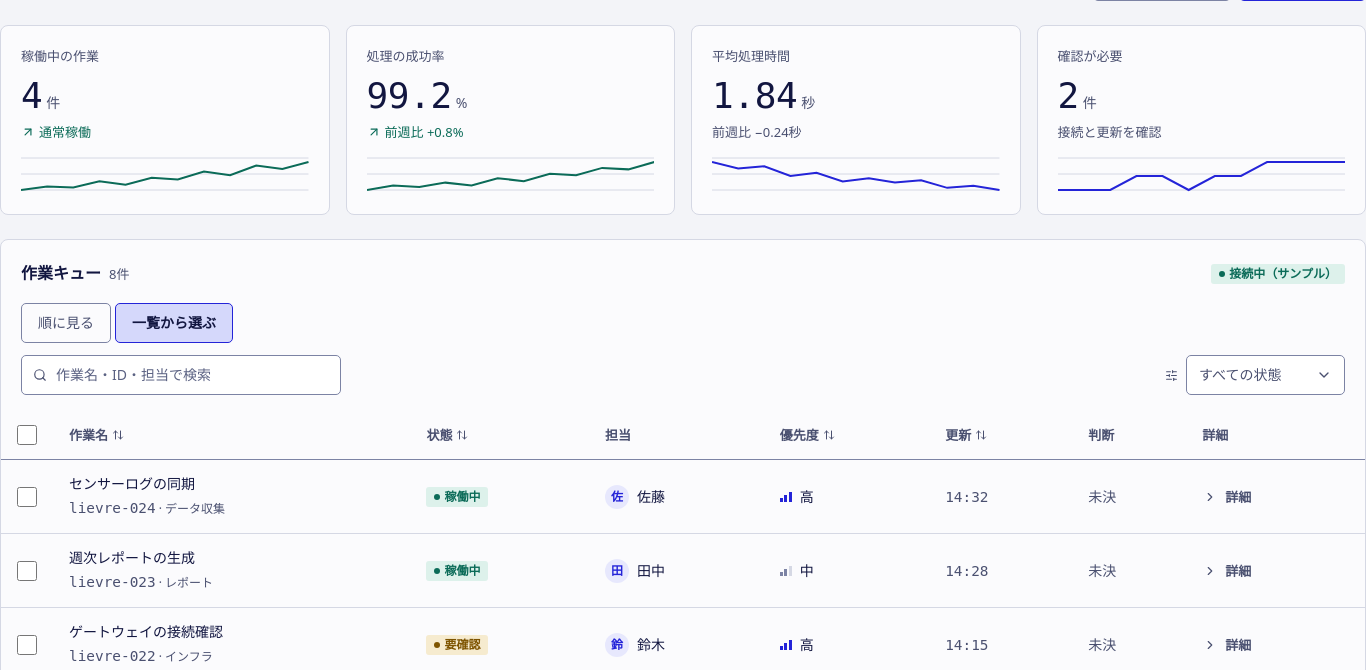
Work queue example: both views share one state › keeps the view in the URL and shares decisions with the table selection
The width and height of the screenshot is (1366, 670).
Later steps or results of the test are not shown.
Click the checkbox named "lievre-022 を選択" at [27, 645], box left=17, top=635, right=37, bottom=655
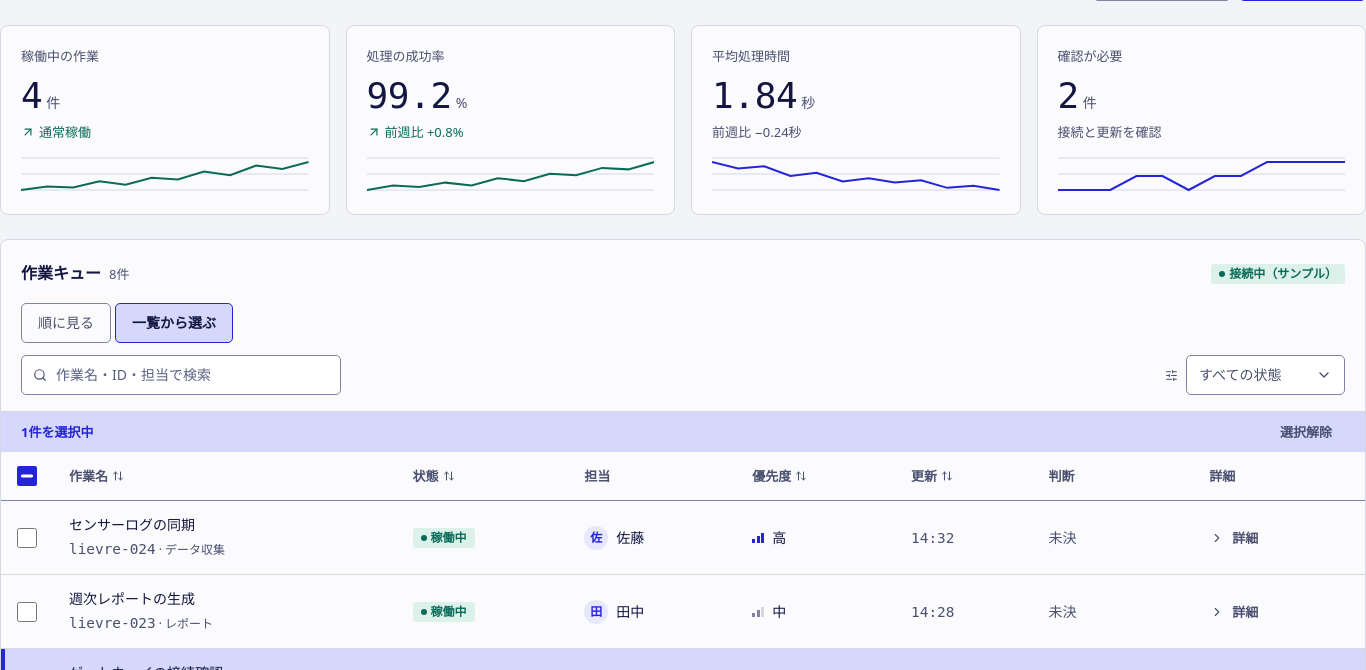
Click the radio button labelled "順に見る" at [66, 323], box left=21, top=303, right=111, bottom=343
(page scrolled)
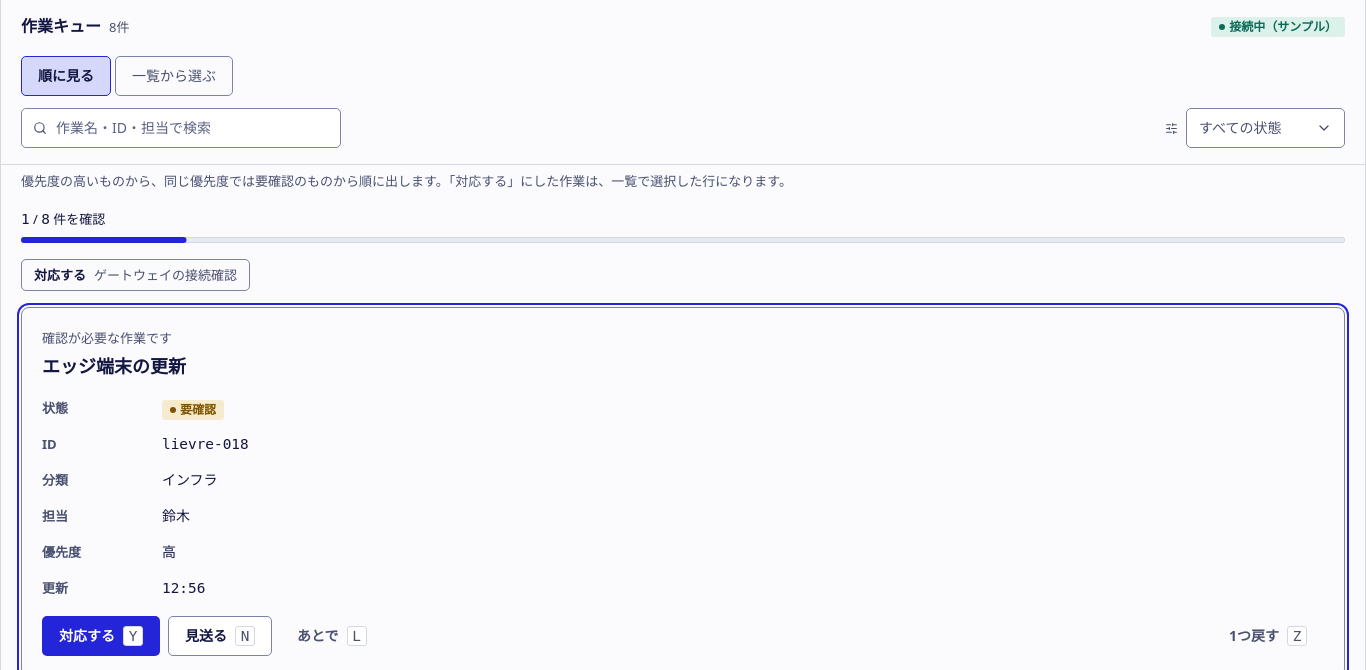
Type keys "y"
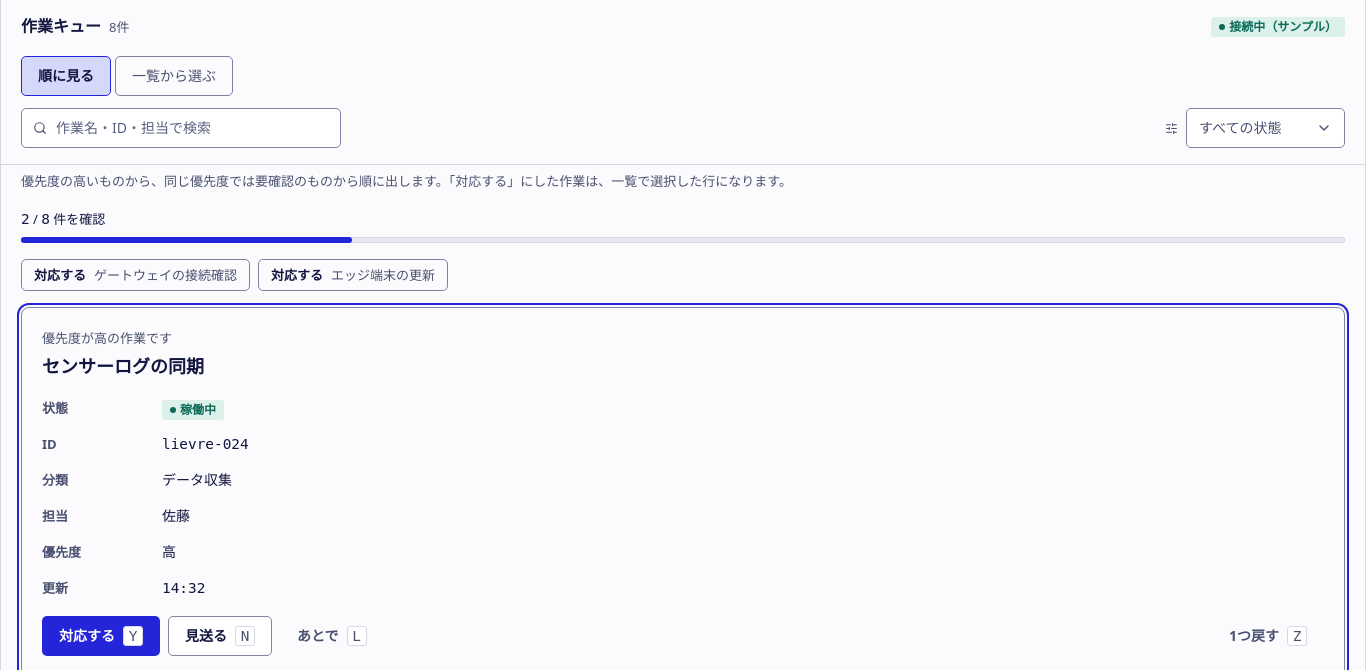
Click the radio button labelled "一覧から選ぶ" at [174, 76], box left=115, top=56, right=233, bottom=96
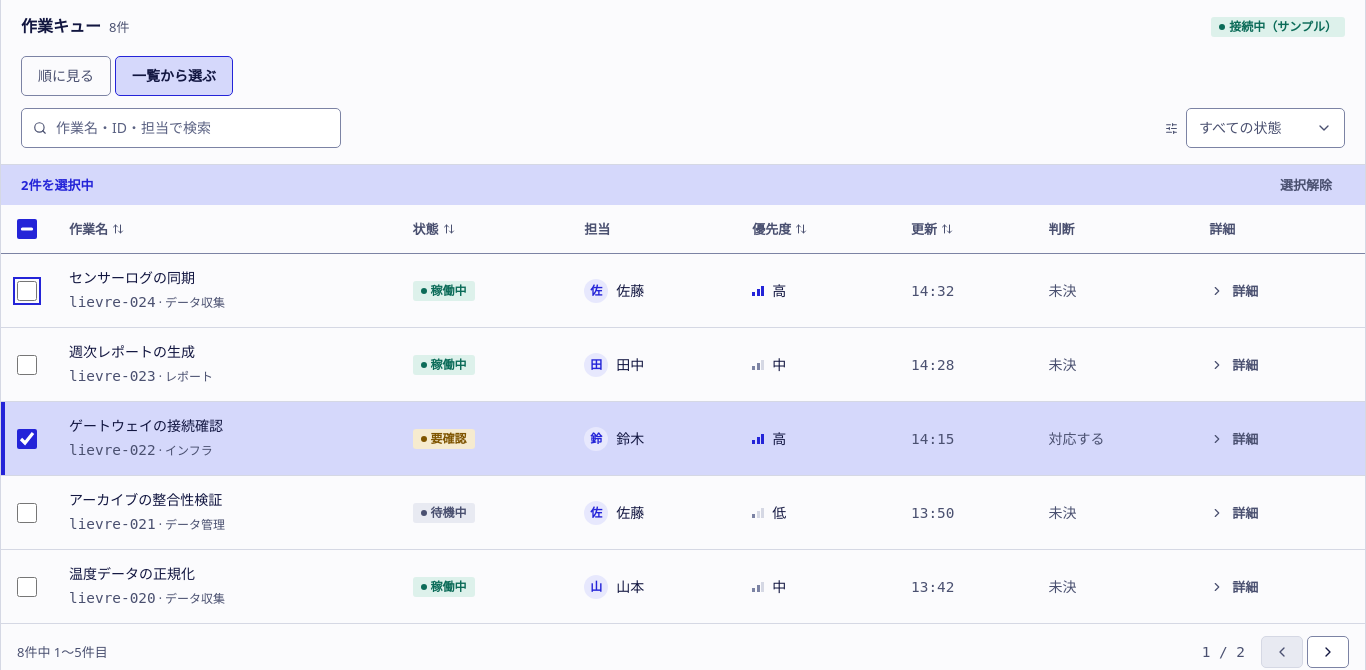
Check: the text "2件を選択中" is shown, box left=21, top=174, right=94, bottom=197
